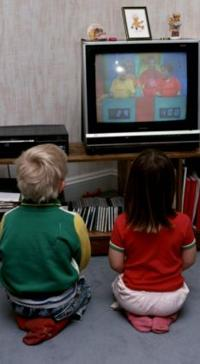person: (107, 152, 197, 315)
